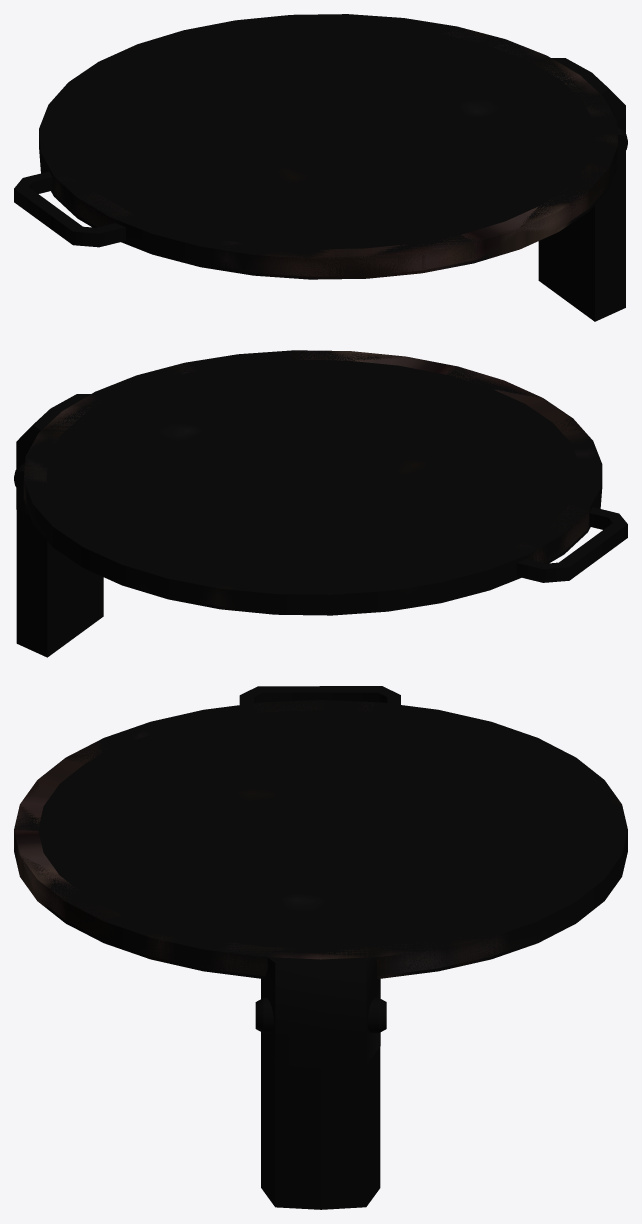
File: Auxiliary Tender1Hatch.fbx
3 renders of one model, top to bottom at view 1: azimuth 30°, elevation 25°; view 2: azimuth 150°, elevation 25°; view 3: azimuth 270°, elevation 25°, orthographic. The views are drawn at different scales.
Visible parts, largest first — view 1: CarTankShort_LOD0.005, CarTankShort_LOD0.004, CarTankShort_LOD0.006; view 2: CarTankShort_LOD0.005, CarTankShort_LOD0.004, CarTankShort_LOD0.006; view 3: CarTankShort_LOD0.005, CarTankShort_LOD0.004, CarTankShort_LOD0.006.
Part boxes in pixels (x1=…): CarTankShort_LOD0.005: x1=39, y1=14, x2=618, y2=279; CarTankShort_LOD0.004: x1=538, y1=58, x2=627, y2=321; CarTankShort_LOD0.006: x1=14, y1=171, x2=125, y2=247; CarTankShort_LOD0.005: x1=23, y1=350, x2=602, y2=615; CarTankShort_LOD0.004: x1=14, y1=394, x2=103, y2=657; CarTankShort_LOD0.006: x1=516, y1=507, x2=627, y2=582; CarTankShort_LOD0.005: x1=14, y1=700, x2=627, y2=978; CarTankShort_LOD0.004: x1=255, y1=957, x2=386, y2=1209; CarTankShort_LOD0.006: x1=239, y1=686, x2=400, y2=704.
Size of the model in its own units: 85.93 by 32.3 by 76.31.
